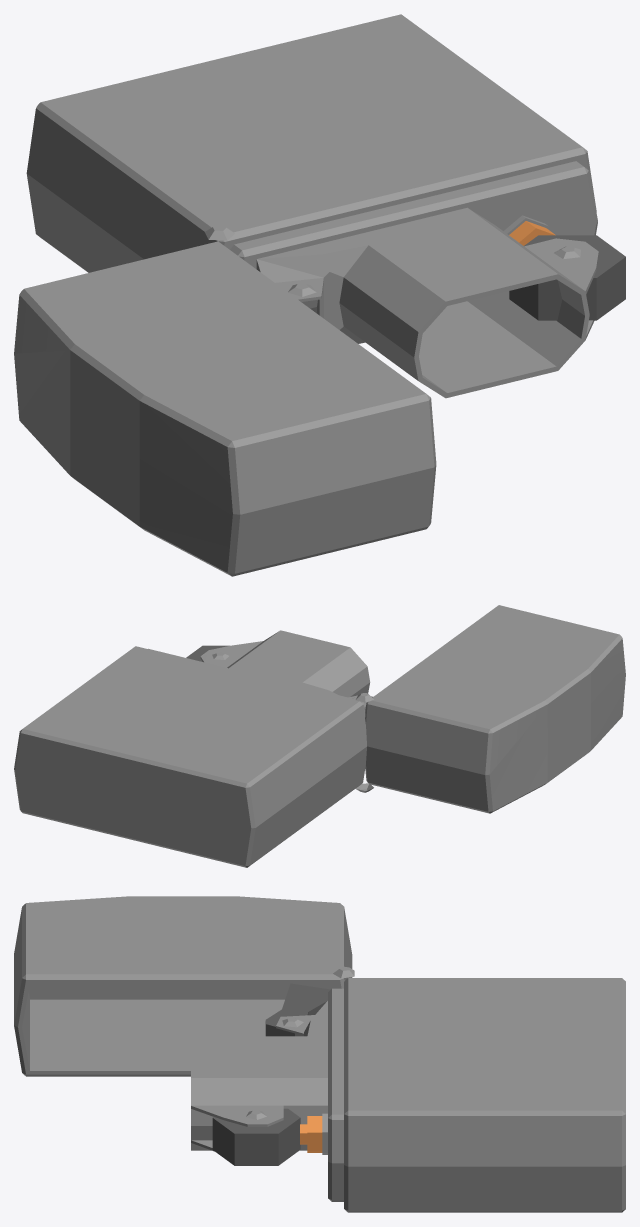
Rendered from Lighter.glb.
3 views of the same model, one above another, from view 1: azimuth 30°, elevation 25°; view 2: azimuth 150°, elevation 25°; view 3: azimuth 270°, elevation 25° (orthographic). The views are drawn at different scales.
Parts seen in each view (by area): view 1: Lighter; view 2: Lighter; view 3: Lighter.
Boxes of the visible parts, x1=… form: Lighter: x1=14, y1=14, x2=625, y2=576; Lighter: x1=14, y1=605, x2=625, y2=867; Lighter: x1=14, y1=896, x2=625, y2=1212.
Size of the model in its own units: 0.65 by 0.16 by 0.76.
1 material, 1 textured.
